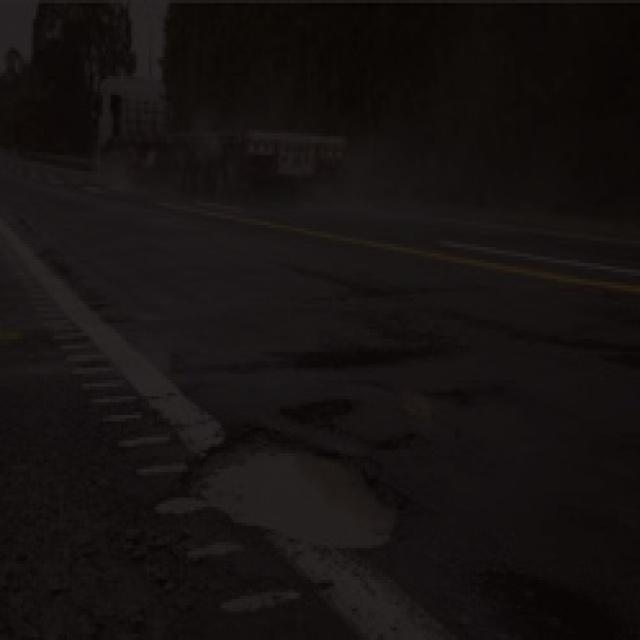Pothole: (148, 418, 420, 567), (475, 560, 636, 640), (312, 256, 416, 318), (270, 342, 448, 378), (372, 386, 477, 437), (282, 390, 360, 433), (565, 327, 640, 370)
